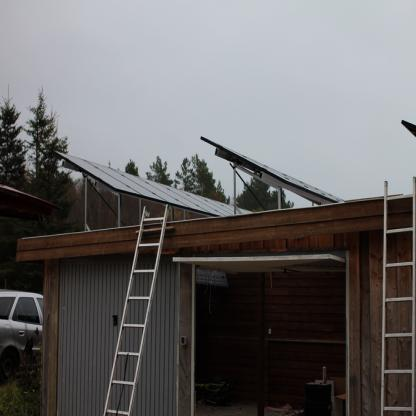Car: (0, 290, 48, 381)
